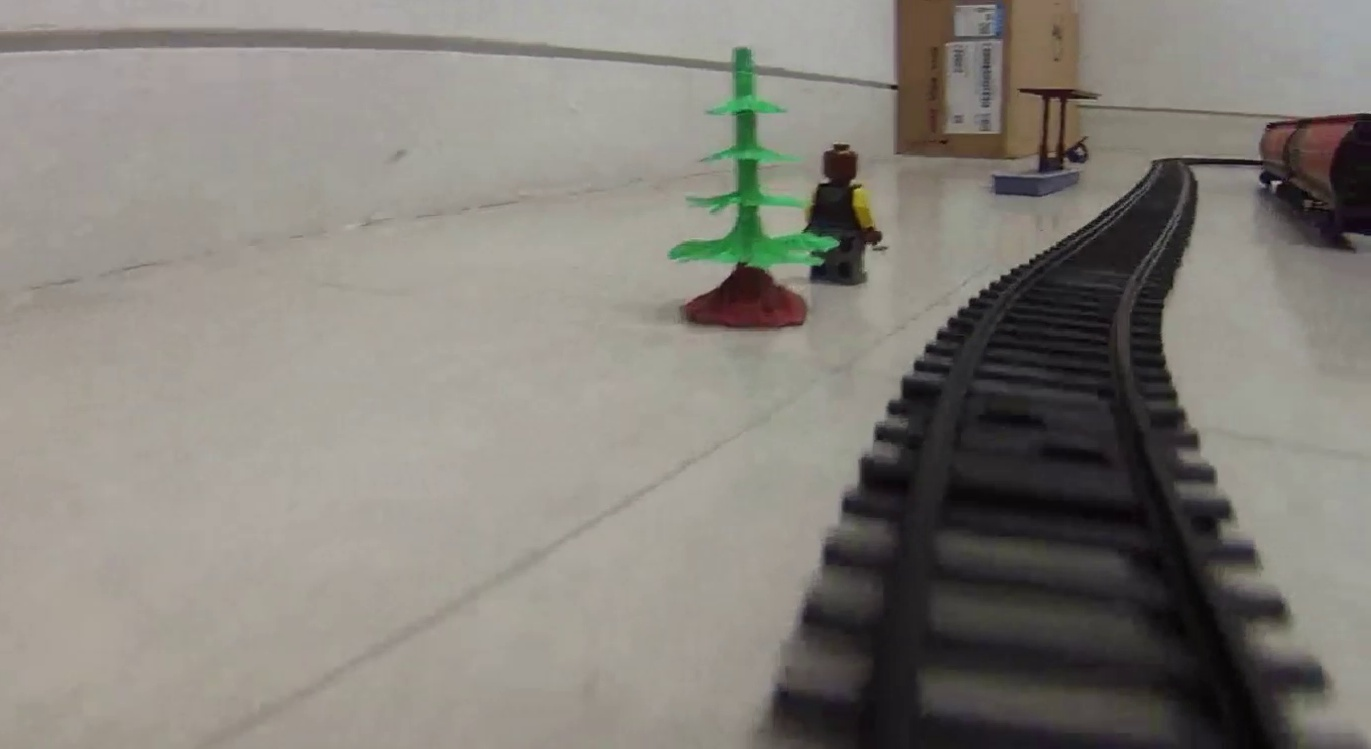people: (804, 140, 880, 287)
tree: (667, 46, 814, 328)
